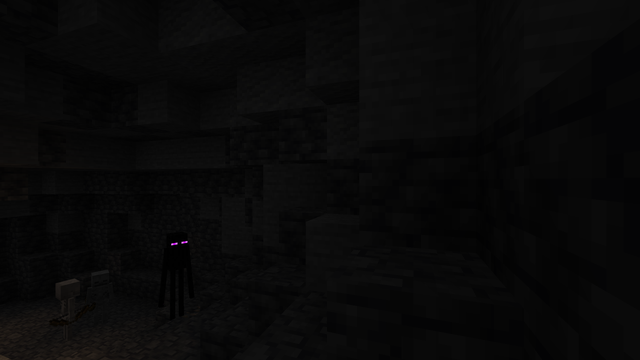endermens: (162, 228, 190, 322)
squelettes: (51, 278, 82, 345), (86, 269, 113, 329)
